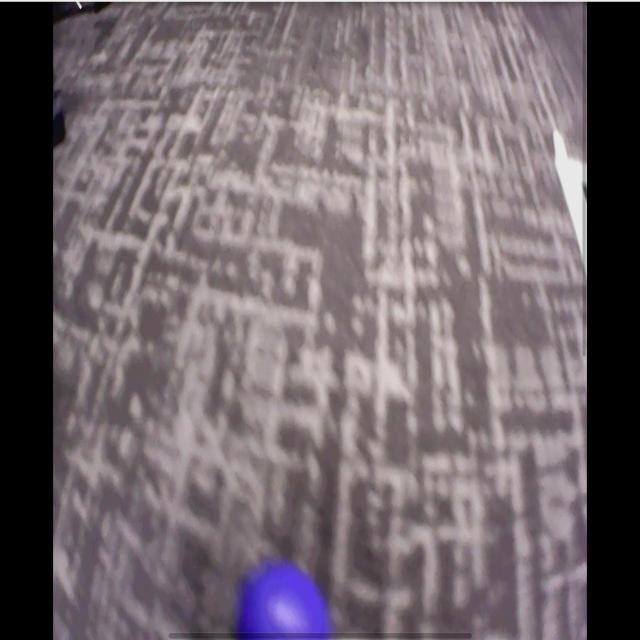ball: (241, 568, 332, 640)
